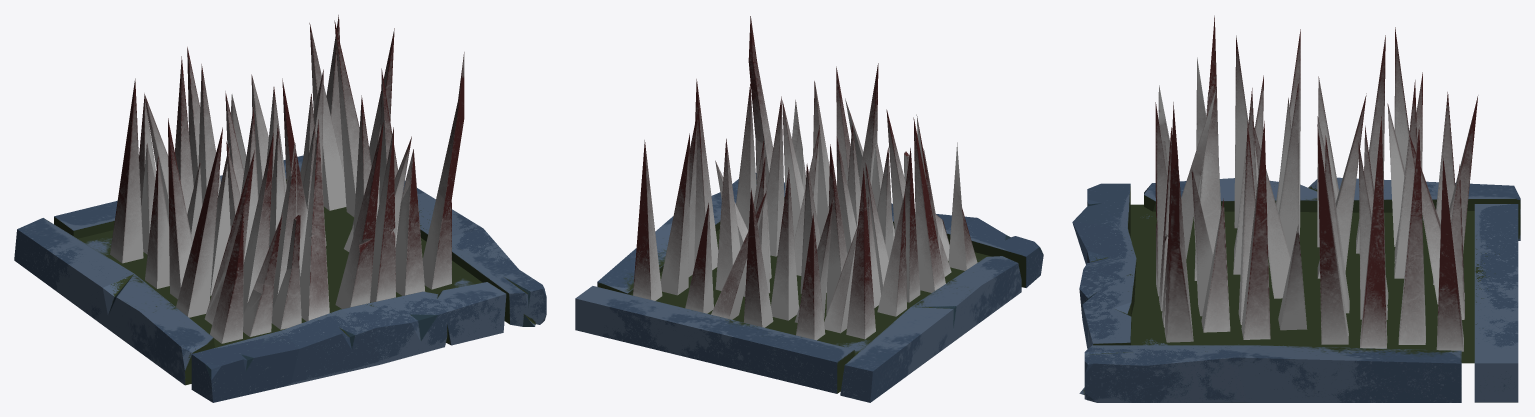
The model's file is Kolce.fbx.
3 views of the same model, side by side, from view 1: azimuth 30°, elevation 25°; view 2: azimuth 150°, elevation 25°; view 3: azimuth 270°, elevation 25° (orthographic). The views are drawn at different scales.
Visible parts, largest first — view 1: Kolce; view 2: Kolce; view 3: Kolce.
Boxes of the visible parts, x1=… form: Kolce: x1=14, y1=15, x2=546, y2=402; Kolce: x1=575, y1=16, x2=1043, y2=402; Kolce: x1=1072, y1=15, x2=1520, y2=402.
Bounding box in the file's own units: 2011 × 1417 × 2065.
